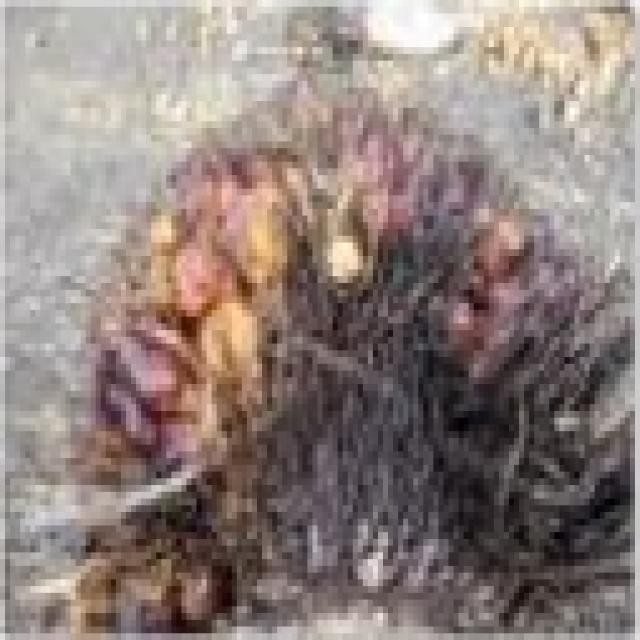FFB: (90, 101, 640, 633)
